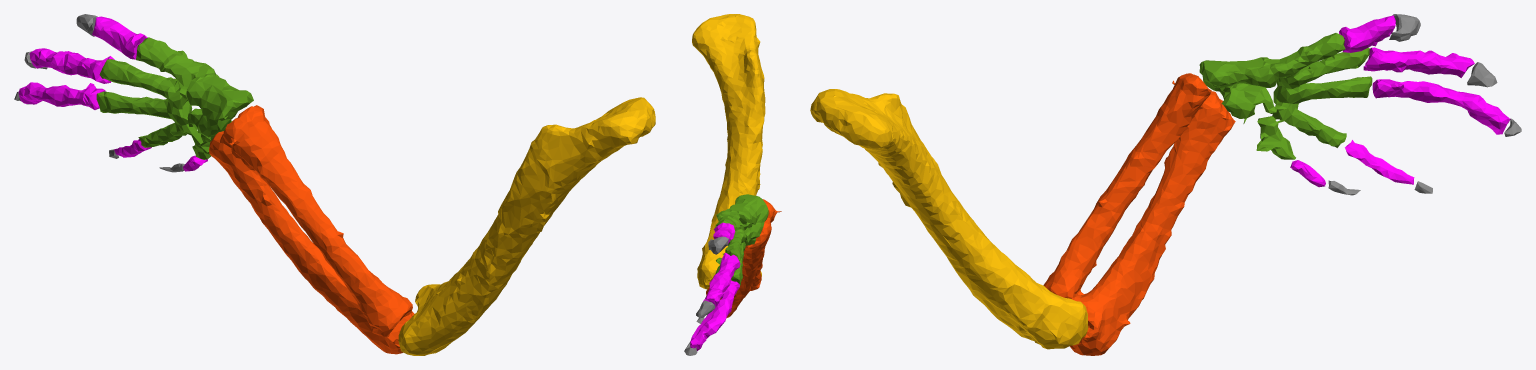
File: hand_left.glb
3 views of the same model, side by side, from view 1: azimuth 30°, elevation 25°; view 2: azimuth 150°, elevation 25°; view 3: azimuth 270°, elevation 25° (orthographic). The views are drawn at different scales.
Parts seen in each view (by area): view 1: Shape_IndexedFaceSet, Shape_IndexedFaceSet.004, Shape_IndexedFaceSet.003, Shape_IndexedFaceSet.002, Shape_IndexedFaceSet.001; view 2: Shape_IndexedFaceSet, Shape_IndexedFaceSet.002, Shape_IndexedFaceSet.003, Shape_IndexedFaceSet.004, Shape_IndexedFaceSet.001; view 3: Shape_IndexedFaceSet.004, Shape_IndexedFaceSet, Shape_IndexedFaceSet.003, Shape_IndexedFaceSet.002, Shape_IndexedFaceSet.001.
Part boxes in pixels (bbox=[...]): Shape_IndexedFaceSet: bbox=[398, 97, 655, 355]; Shape_IndexedFaceSet.004: bbox=[209, 105, 414, 354]; Shape_IndexedFaceSet.003: bbox=[96, 37, 253, 159]; Shape_IndexedFaceSet.002: bbox=[18, 16, 207, 171]; Shape_IndexedFaceSet.001: bbox=[14, 14, 184, 172]; Shape_IndexedFaceSet: bbox=[692, 14, 765, 289]; Shape_IndexedFaceSet.002: bbox=[690, 222, 740, 351]; Shape_IndexedFaceSet.003: bbox=[715, 194, 768, 297]; Shape_IndexedFaceSet.004: bbox=[706, 199, 781, 317]; Shape_IndexedFaceSet.001: bbox=[684, 236, 728, 355]; Shape_IndexedFaceSet.004: bbox=[1043, 73, 1235, 355]; Shape_IndexedFaceSet: bbox=[810, 89, 1088, 349]; Shape_IndexedFaceSet.003: bbox=[1199, 33, 1372, 159]; Shape_IndexedFaceSet.002: bbox=[1290, 15, 1510, 187]; Shape_IndexedFaceSet.001: bbox=[1328, 14, 1521, 195].
Bounding box in the file's own units: 0.0171 × 0.0151 × 0.0314.
